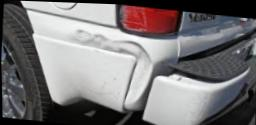Bumper: (63, 25, 158, 107)
